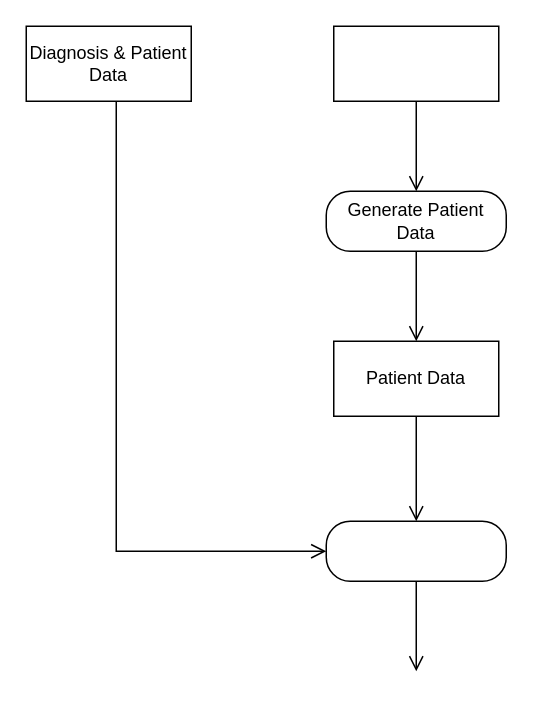
Some shapes in this 533 by 713 pixel diagram are drawn without their labels. Here are the shapes that lost their labels. From the top down, the centre of each, then its label:
(x=415, y=63): Diagnosis
(x=415, y=550): Generate Symptoms for Diagnosis
